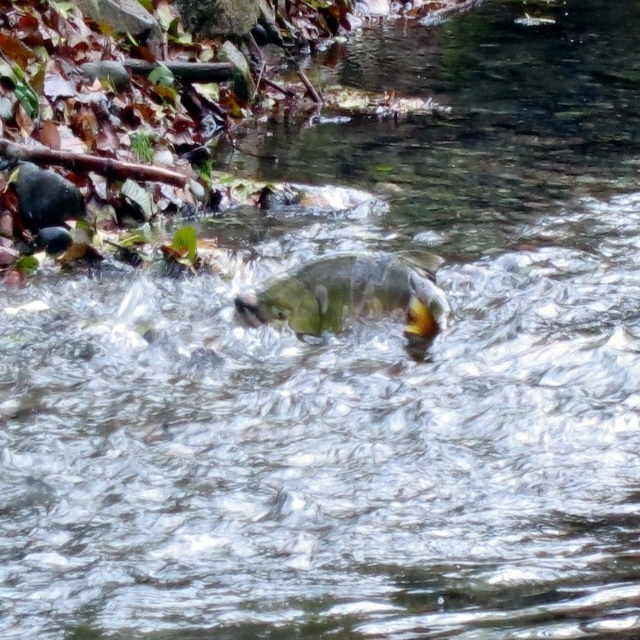Fish: (230, 249, 451, 364)
